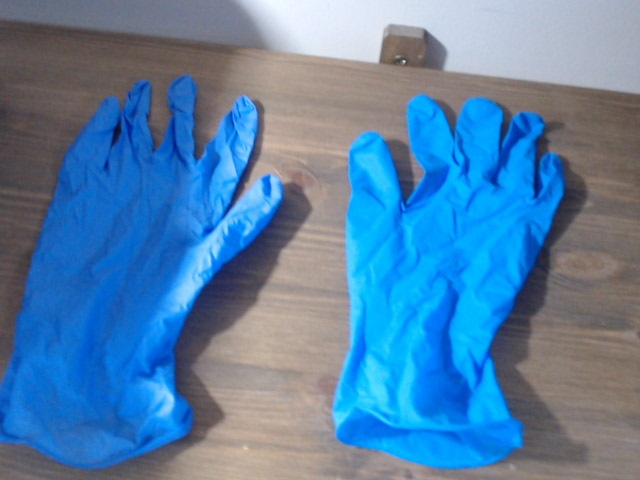medical_glove: (3, 75, 284, 465), (335, 92, 566, 468)
